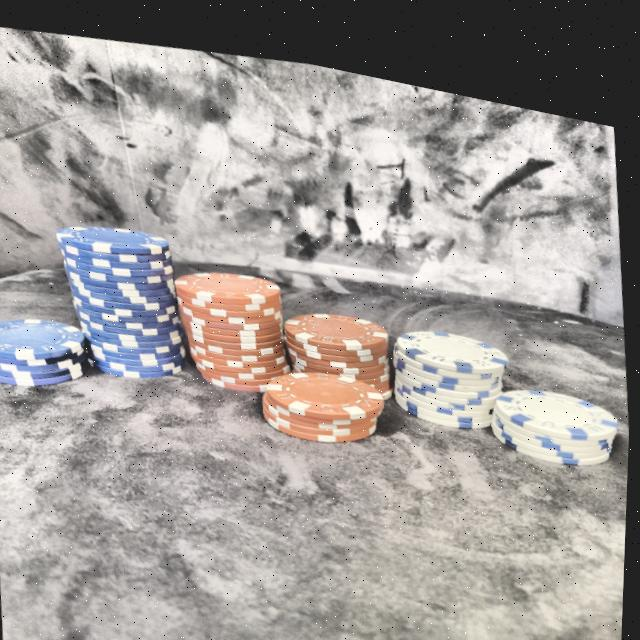Chip: (51, 194, 191, 398), (381, 279, 521, 435), (174, 232, 297, 402), (477, 333, 621, 466), (249, 333, 402, 457), (281, 284, 403, 401), (0, 294, 98, 409)
